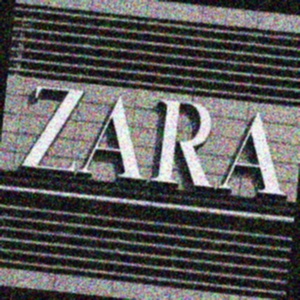zara: (284, 39, 300, 116)
